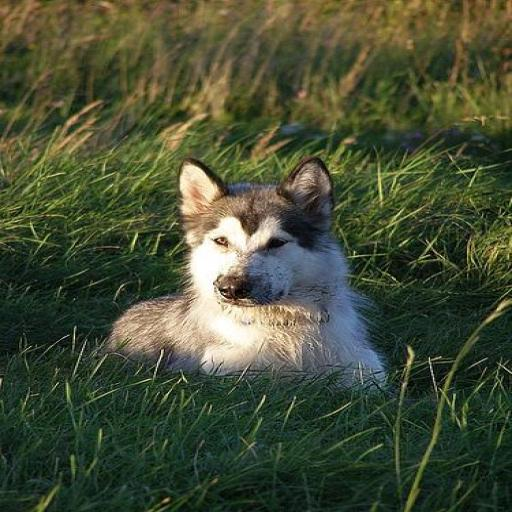dog_face: (169, 156, 342, 307)
